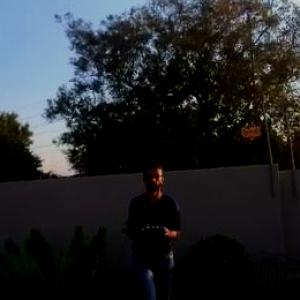follow: (119, 158, 188, 299)
